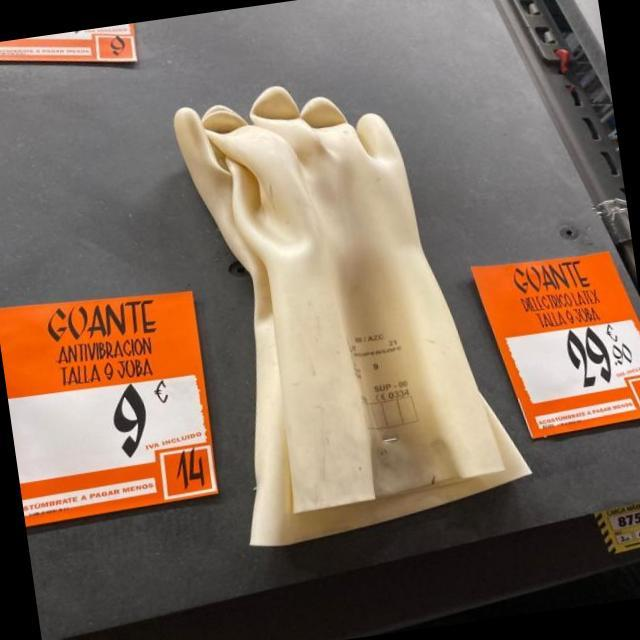glove: (168, 79, 538, 526)
